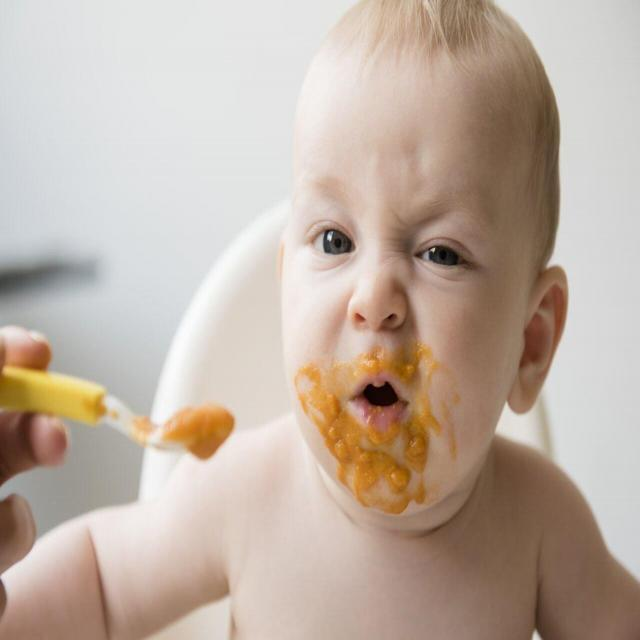child: (31, 1, 640, 637)
